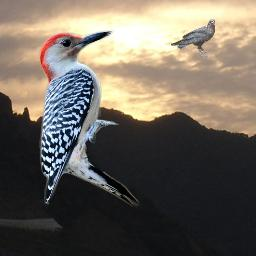Crow: (171, 19, 215, 59)
Woodpecker: (30, 23, 148, 220)
